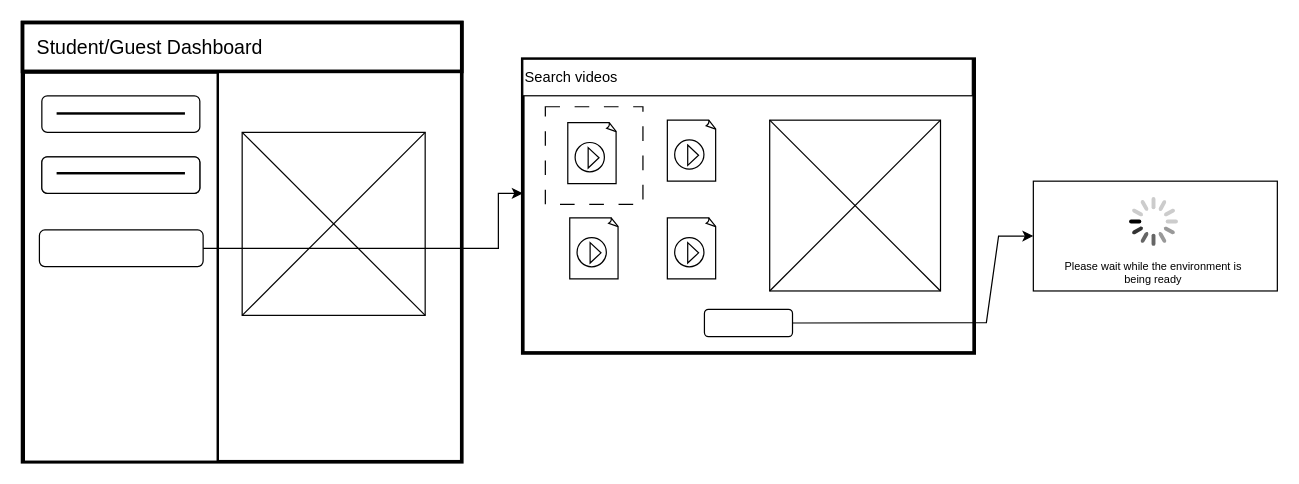
This 1299x484 diagram has some shape labels left out. The shapes that lost their labels are listed below. From the top down, each one's centre as x and y in pixels, then its label:
[120,248]: Explore AR Field Trips
[748,322]: Join
